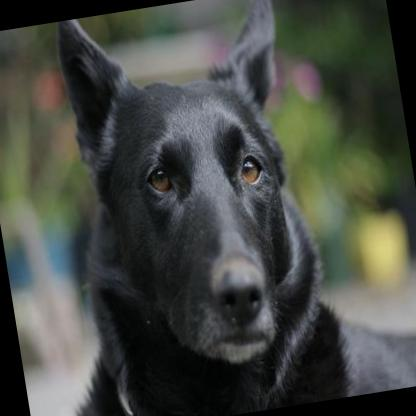kelpie: (1, 0, 416, 416)
